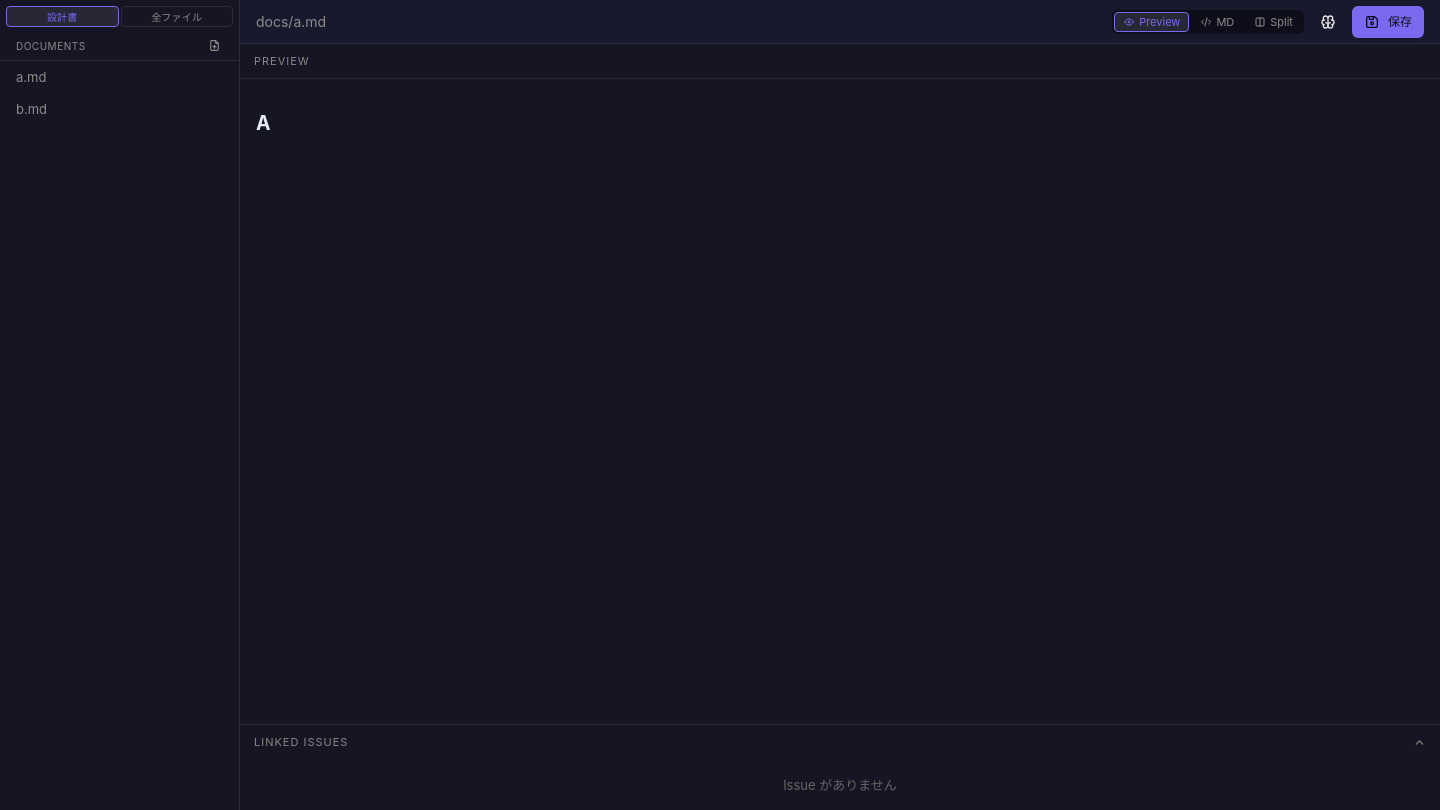
Test: EditorScreen — UnsavedWarningModal wire-up › モーダルの「保存」をクリックすると saveDocument が呼ばれてから次のドキュメントが開く
The width and height of the screenshot is (1440, 810).
What coordinates should you click on to do the following:
click the button "b.md"
I would click on:
 (107, 109)
Its box is [2,93,212,125].
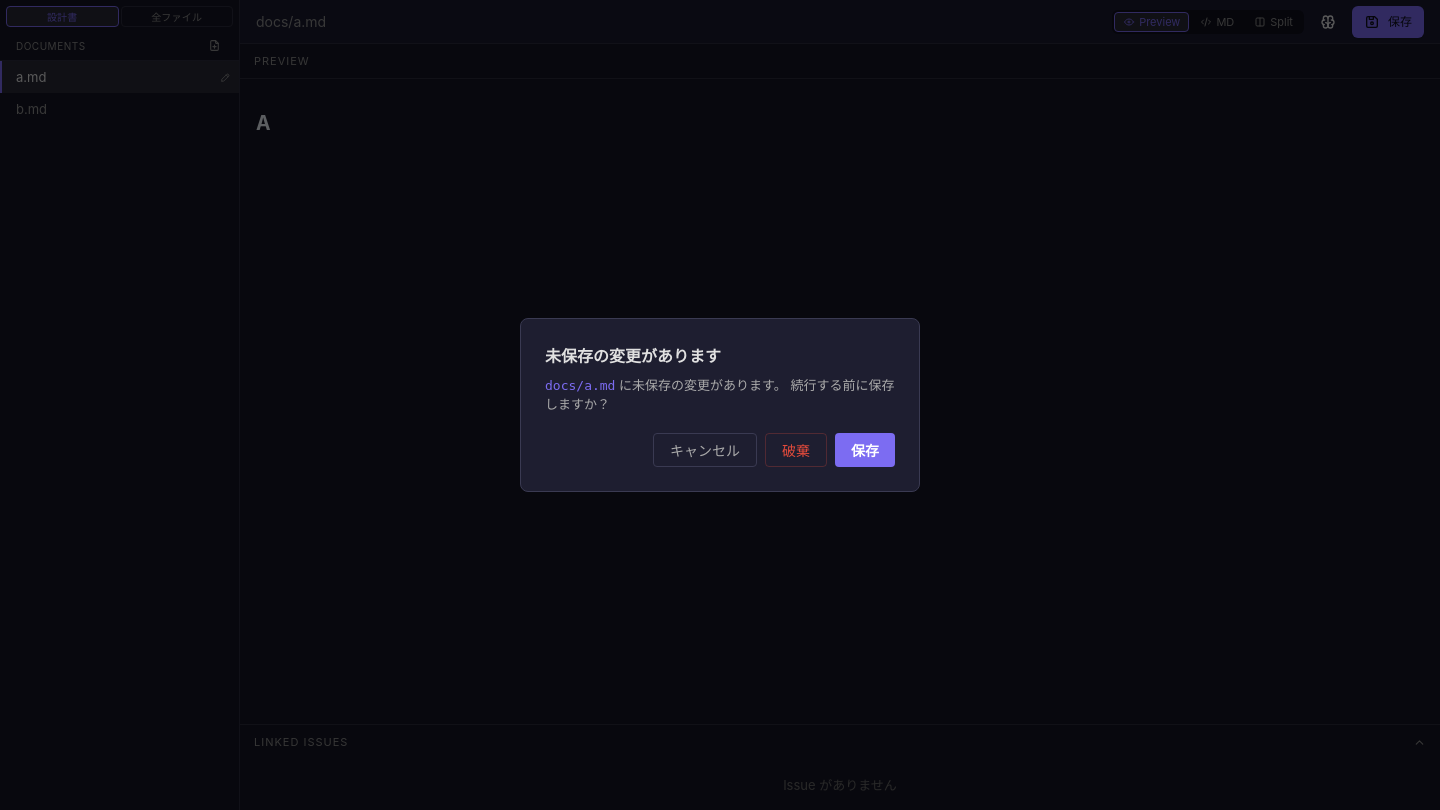
Expected: the dialog is shown, [520,318,920,492]
What coordinates should you click on to do the following:
click the button "保存"
I would click on:
 (865, 450)
Its box is [835,433,895,467].
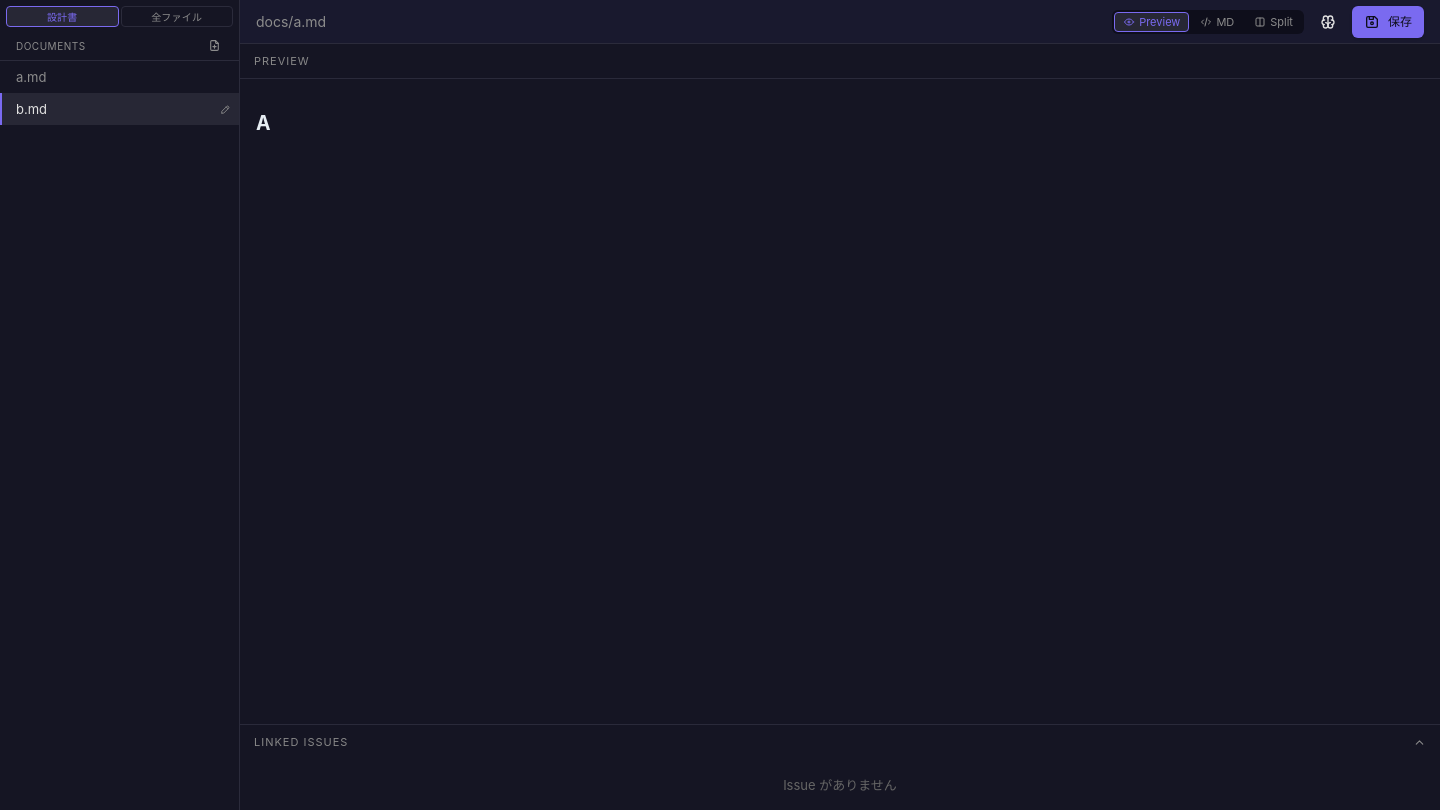
Expected: the dialog is gone
